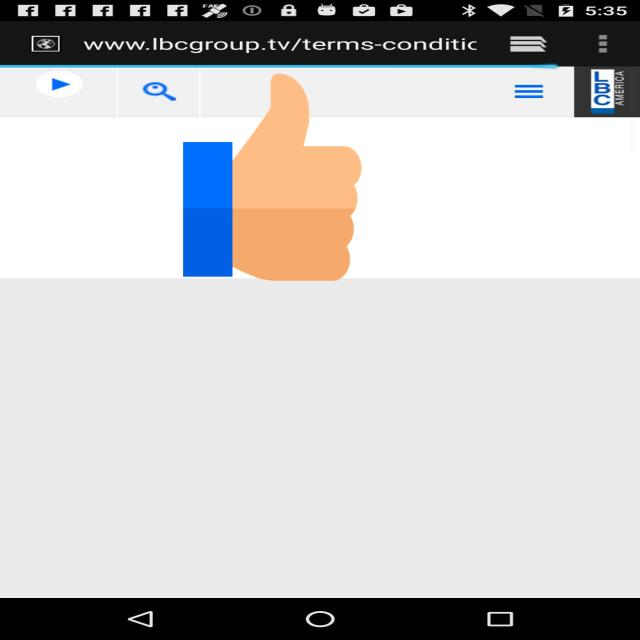privacy zuckering: (183, 68, 362, 286)
